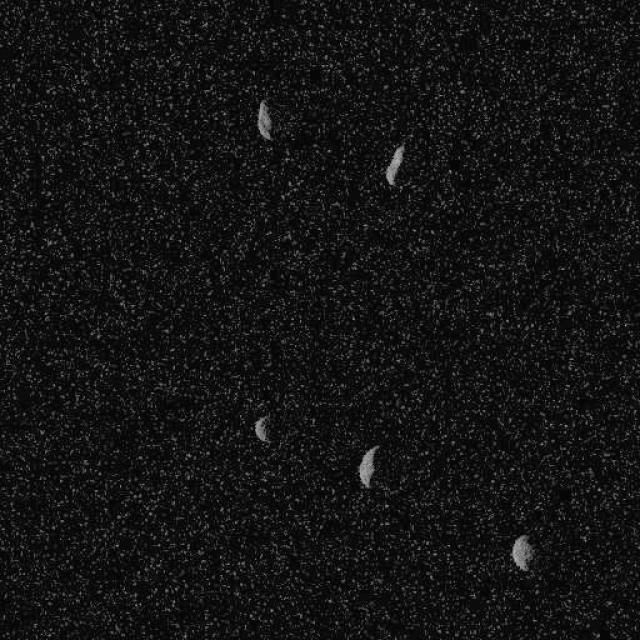D2: (356, 444, 380, 488), (511, 532, 535, 572), (384, 142, 404, 186), (256, 98, 272, 142), (252, 413, 272, 442)
